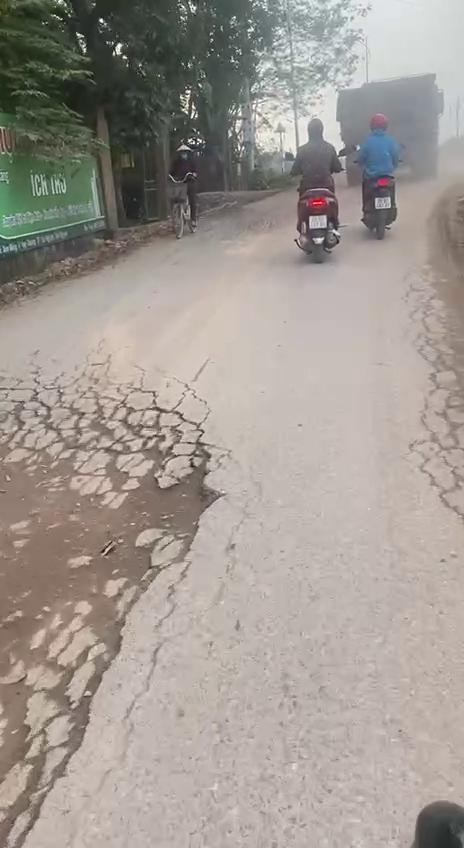pothole: (0, 383, 236, 848)
